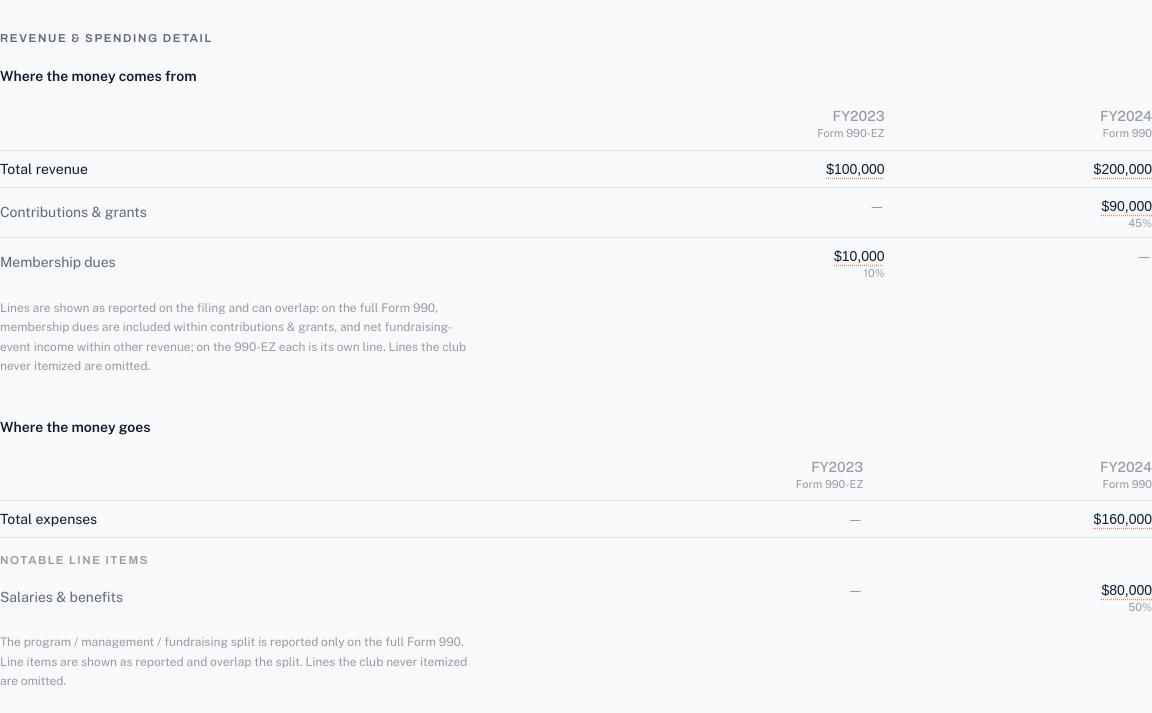
Test: profile components › renders the composition tables with per-cell drawers, shares, and holes
Check: the heading "Where the money comes from" is shown, box x1=0 y1=68 x2=196 y2=84
Check: the heading "Where the money goes" is shown, box x1=0 y1=418 x2=151 y2=434
// A cell opens its own source drawer with the line's provenance.
What coordinates should you click on to do the following:
click the button "$90,000"
I would click on:
 (1127, 206)
Its box is x1=1101 y1=196 x2=1151 y2=216.
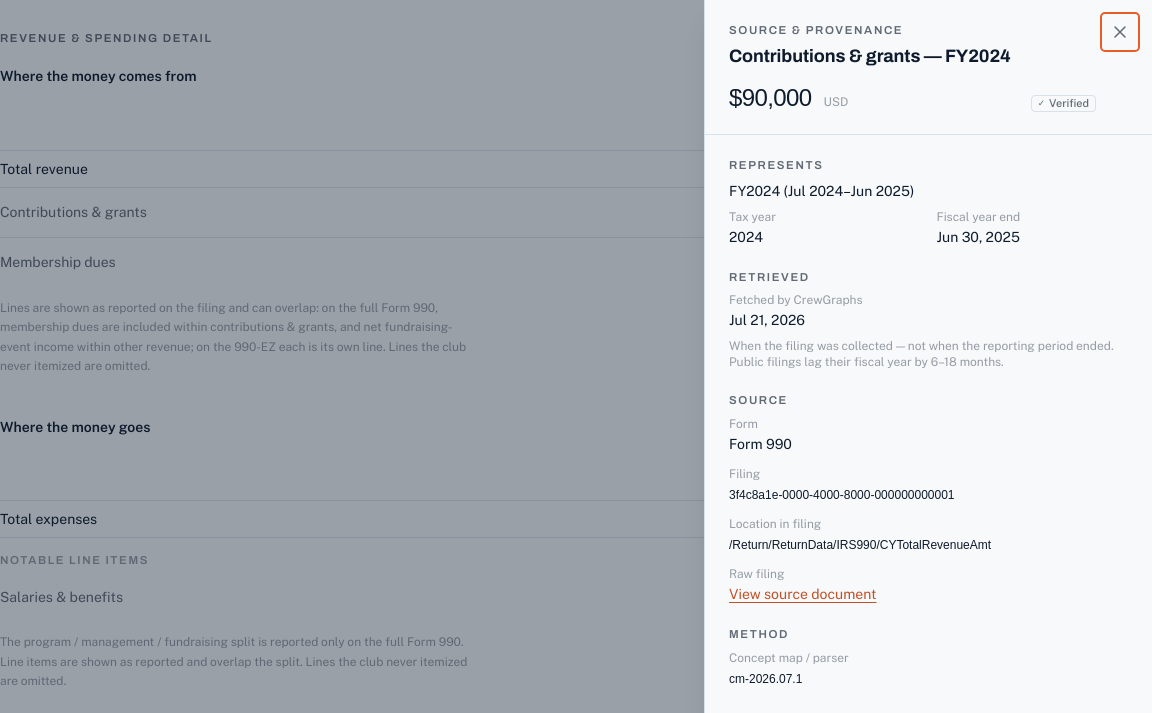
Check: the text "—" is shown, box x1=869 y1=198 x2=885 y2=214
Check: the text "/Return/ReturnData/IRS990/CYTotalRevenueAmt" is shown, box x1=729 y1=538 x2=991 y2=552
